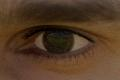eye: (44, 29, 73, 54)
